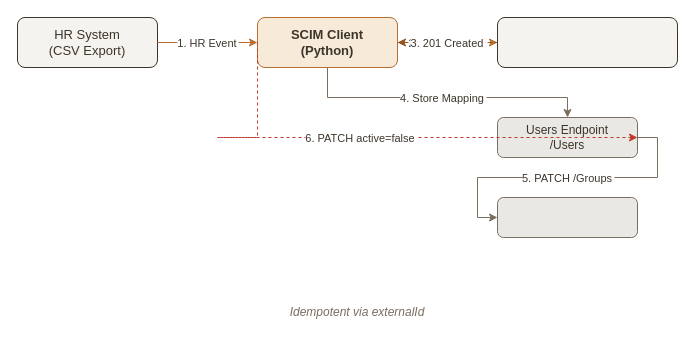
Some shapes in this 695 by 345 pixel diagram are drawn without their labels. The centre of each missing label's shape, as x and y in pixels:
Groups Endpoint /Groups: [567,217]
SCIM Service Provider (SaaS App): [587,42]
